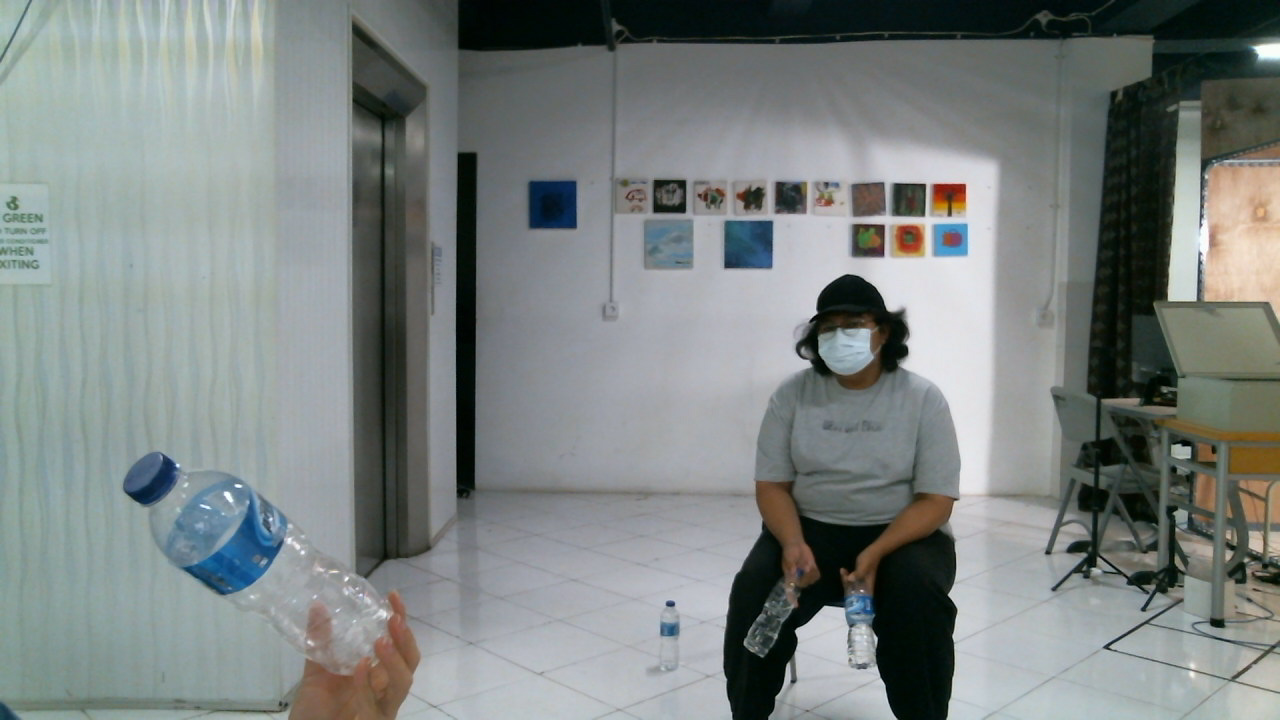Bottle: (124, 451, 396, 674)
